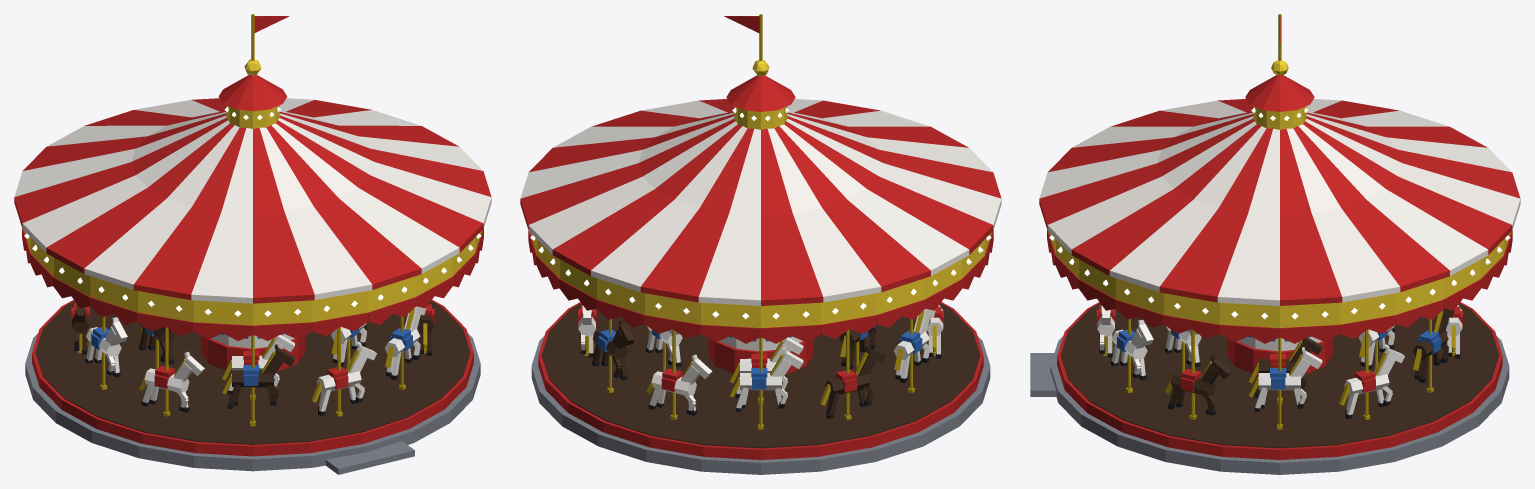
Rendered from caraousel.glb.
3 views of the same model, side by side, from view 1: azimuth 30°, elevation 25°; view 2: azimuth 150°, elevation 25°; view 3: azimuth 270°, elevation 25° (orthographic).
Visible parts, largest first — view 1: canopy-stripes-a, canopy-stripes-b, floor, board, base, valance, deck, horses-outer-white, horses-outer-dark-wood, crown-roof, poles, step (+10 smaller); view 2: canopy-stripes-a, canopy-stripes-b, floor, board, base, valance, deck, horses-outer-white, horses-outer-dark-wood, crown-roof, poles, drum-bands (+9 smaller); view 3: canopy-stripes-b, canopy-stripes-a, floor, board, base, valance, deck, horses-outer-white, horses-outer-dark-wood, crown-roof, poles, drum-bands (+10 smaller).
Part boxes in pixels (bbox=[...]): canopy-stripes-a: bbox=[14, 98, 491, 303]; canopy-stripes-b: bbox=[14, 98, 491, 303]; floor: bbox=[35, 301, 470, 444]; board: bbox=[24, 231, 481, 325]; base: bbox=[25, 333, 480, 471]; valance: bbox=[22, 228, 483, 340]; deck: bbox=[32, 299, 473, 456]; horses-outer-white: bbox=[86, 306, 426, 411]; horses-outer-dark-wood: bbox=[71, 303, 433, 405]; crown-roof: bbox=[218, 74, 287, 111]; poles: bbox=[78, 307, 426, 426]; step: bbox=[325, 441, 414, 474]; canopy-stripes-a: bbox=[520, 99, 1001, 305]; canopy-stripes-b: bbox=[520, 99, 1001, 305]; floor: bbox=[541, 303, 980, 448]; board: bbox=[530, 232, 991, 327]; base: bbox=[531, 336, 990, 474]; valance: bbox=[528, 230, 993, 343]; deck: bbox=[538, 302, 983, 459]; horses-outer-white: bbox=[578, 305, 943, 411]; horses-outer-dark-wood: bbox=[592, 319, 886, 414]; crown-roof: bbox=[726, 75, 795, 111]; poles: bbox=[584, 309, 936, 429]; drum-bands: bbox=[708, 338, 813, 374]; canopy-stripes-b: bbox=[1039, 99, 1520, 305]; canopy-stripes-a: bbox=[1039, 99, 1520, 305]; floor: bbox=[1060, 303, 1499, 448]; board: bbox=[1049, 232, 1510, 327]; base: bbox=[1050, 336, 1509, 474]; valance: bbox=[1047, 230, 1512, 343]; deck: bbox=[1057, 302, 1502, 459]; horses-outer-white: bbox=[1097, 305, 1462, 414]; horses-outer-dark-wood: bbox=[1168, 308, 1454, 411]; crown-roof: bbox=[1245, 75, 1314, 111]; poles: bbox=[1103, 309, 1455, 429]; drum-bands: bbox=[1227, 338, 1332, 374].
Bounding box in the file's own units: 10.8 × 9 × 11.
